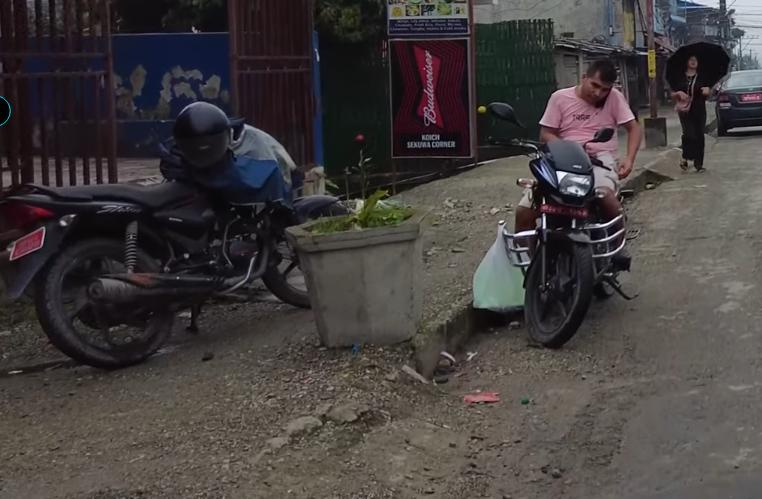bike: (0, 93, 366, 368), (488, 95, 644, 364)
